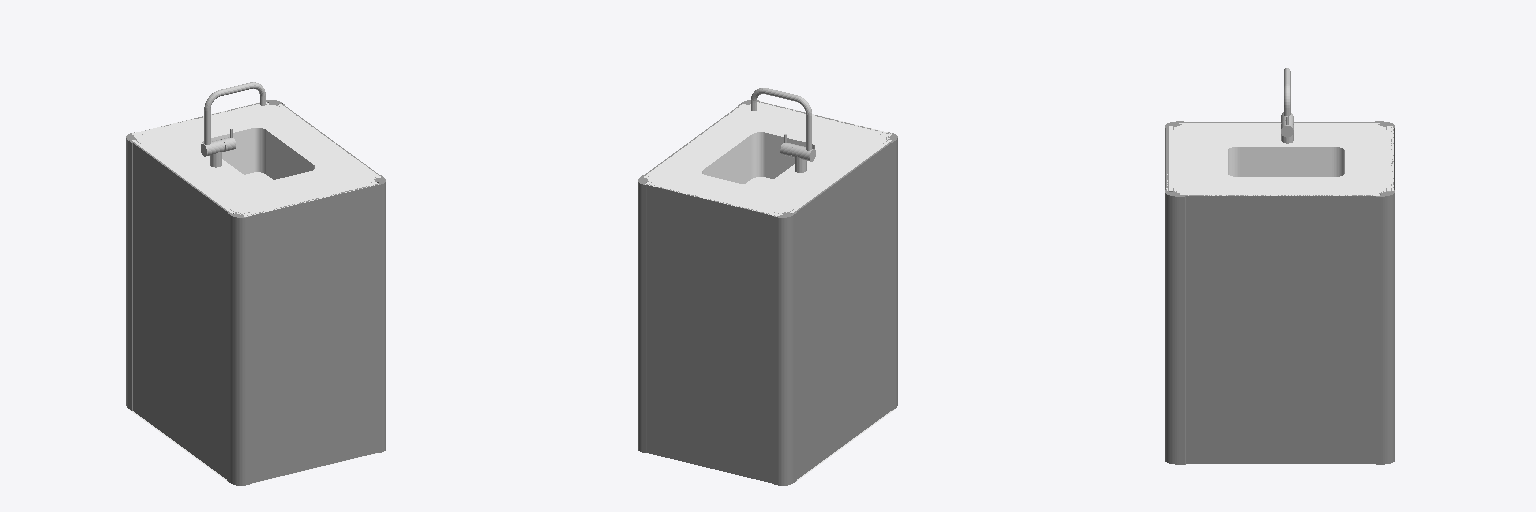
The model's file is Wasbak.obj.
3 renders of one model, left to right at view 1: azimuth 30°, elevation 25°; view 2: azimuth 150°, elevation 25°; view 3: azimuth 270°, elevation 25°, orthographic.
Visible parts, largest first — view 1: Mesh5 Bench_Corner4 Model, Mesh1 Bench_Corner1 Model, Mesh6 Model, Mesh3 Bench_Corner3 Model, Mesh4 Vola_KV1_1 Model; view 2: Mesh6 Model, Mesh1 Bench_Corner1 Model, Mesh2 Bench_Corner2 Model, Mesh5 Bench_Corner4 Model, Mesh4 Vola_KV1_1 Model; view 3: Mesh3 Bench_Corner3 Model, Mesh6 Model, Mesh2 Bench_Corner2 Model, Mesh4 Vola_KV1_1 Model.
Part boxes in pixels (x1,y1,x2,y2): Mesh5 Bench_Corner4 Model: (227,183,379,485); Mesh1 Bench_Corner1 Model: (126,132,231,478); Mesh6 Model: (129,102,380,483); Mesh3 Bench_Corner3 Model: (280,103,385,452); Mesh4 Vola_KV1_1 Model: (201,82,265,167); Mesh6 Model: (644,101,894,483); Mesh1 Bench_Corner1 Model: (774,140,893,485); Mesh2 Bench_Corner2 Model: (638,175,778,452); Mesh5 Bench_Corner4 Model: (757,101,897,410); Mesh4 Vola_KV1_1 Model: (751,88,815,172); Mesh3 Bench_Corner3 Model: (1165,188,1380,464); Mesh6 Model: (1166,123,1393,195); Mesh2 Bench_Corner2 Model: (1376,126,1394,464); Mesh4 Vola_KV1_1 Model: (1281,68,1293,143).
Size of the model in its own units: 39.66 by 83.81 by 51.12.